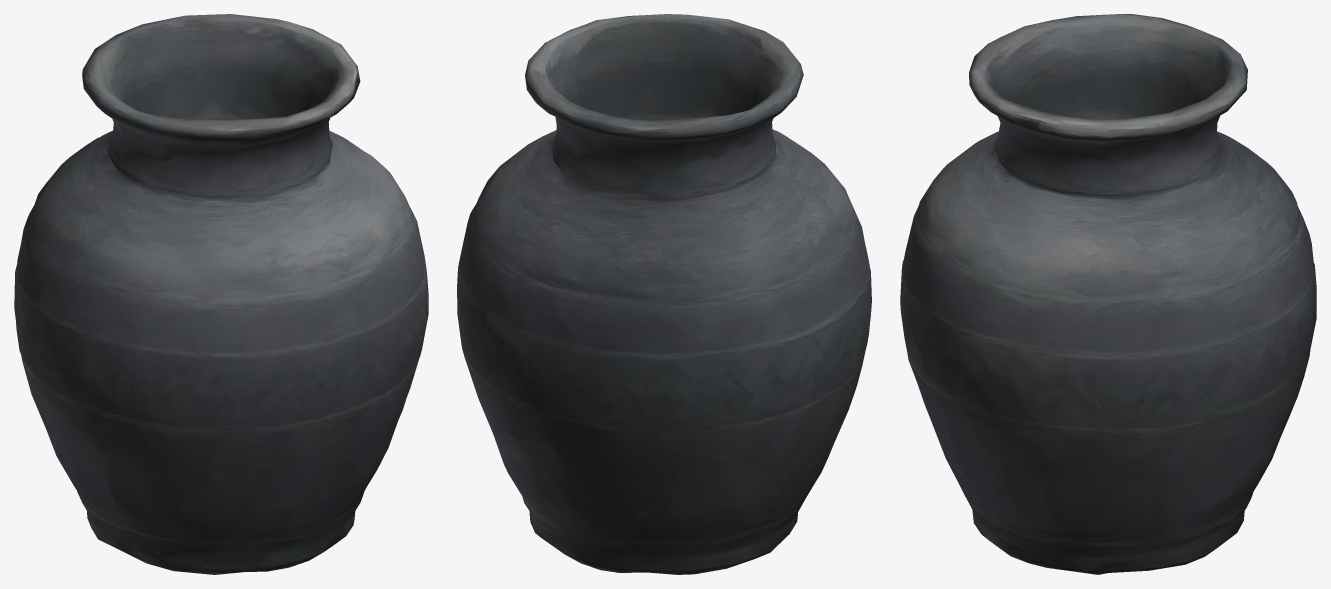
Rendered from vase_ceramic_round.glb.
The picture shows the model from 3 angles, left to right: view 1: azimuth 30°, elevation 25°; view 2: azimuth 150°, elevation 25°; view 3: azimuth 270°, elevation 25°; orthographic projection.
Parts seen in each view (by area): view 1: tripo_node_3b3cf144-fb87-4b91-a5ae-6a65ea3d5a45; view 2: tripo_node_3b3cf144-fb87-4b91-a5ae-6a65ea3d5a45; view 3: tripo_node_3b3cf144-fb87-4b91-a5ae-6a65ea3d5a45.
Boxes of the visible parts, x1,y1,x2,y2 form: tripo_node_3b3cf144-fb87-4b91-a5ae-6a65ea3d5a45: (14, 14, 428, 574); tripo_node_3b3cf144-fb87-4b91-a5ae-6a65ea3d5a45: (457, 14, 871, 574); tripo_node_3b3cf144-fb87-4b91-a5ae-6a65ea3d5a45: (900, 14, 1316, 574).
Size of the model in its own units: 0.8312 by 1 by 0.8329.
Materials: 1 (1 with a texture image).
